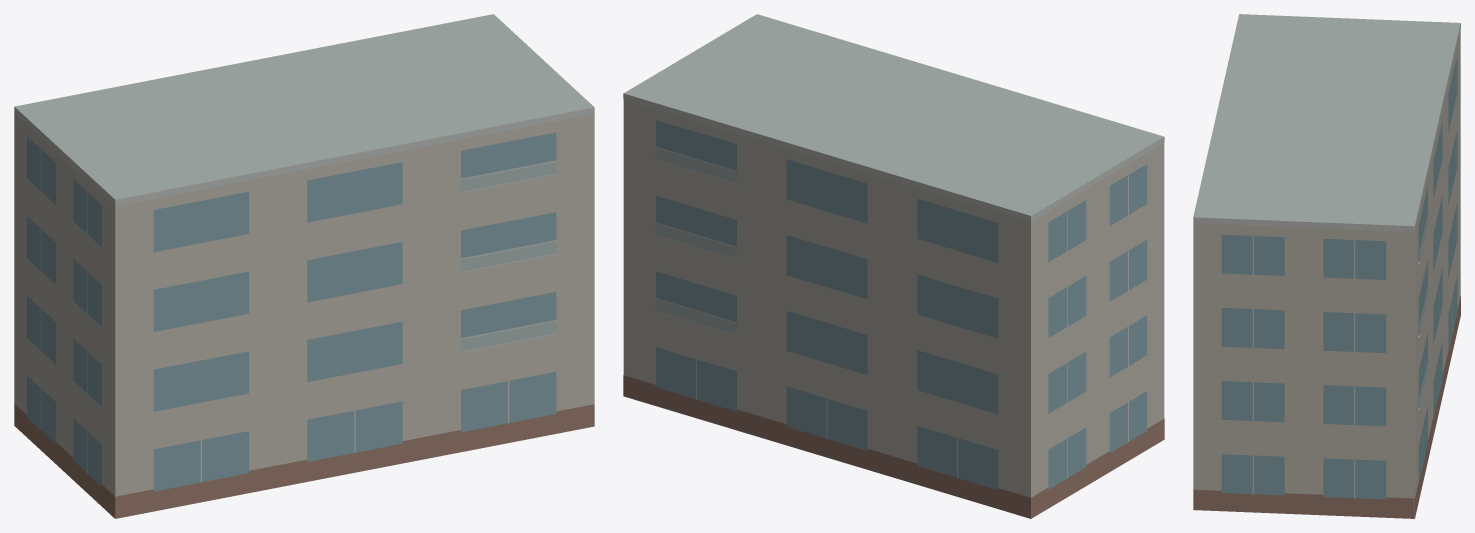
Rendered from residential-2f1fd8fd-0c13-441b-bd3f-bc2522a9e8e8.glb.
3 views of the same model, side by side, from view 1: azimuth 30°, elevation 25°; view 2: azimuth 150°, elevation 25°; view 3: azimuth 270°, elevation 25° (orthographic). The views are drawn at different scales.
Visible parts, largest first — view 1: residential-2f1fd8fd-0c13-441b-bd3f-bc2522a9e8e8.tmp; view 2: residential-2f1fd8fd-0c13-441b-bd3f-bc2522a9e8e8.tmp; view 3: residential-2f1fd8fd-0c13-441b-bd3f-bc2522a9e8e8.tmp.
Boxes of the visible parts, x1,y1,x2,y2 form: residential-2f1fd8fd-0c13-441b-bd3f-bc2522a9e8e8.tmp: (14, 14, 594, 518); residential-2f1fd8fd-0c13-441b-bd3f-bc2522a9e8e8.tmp: (623, 14, 1164, 518); residential-2f1fd8fd-0c13-441b-bd3f-bc2522a9e8e8.tmp: (1193, 14, 1460, 518).
Size of the model in its own units: 18.98 by 12.2 by 10.12.
